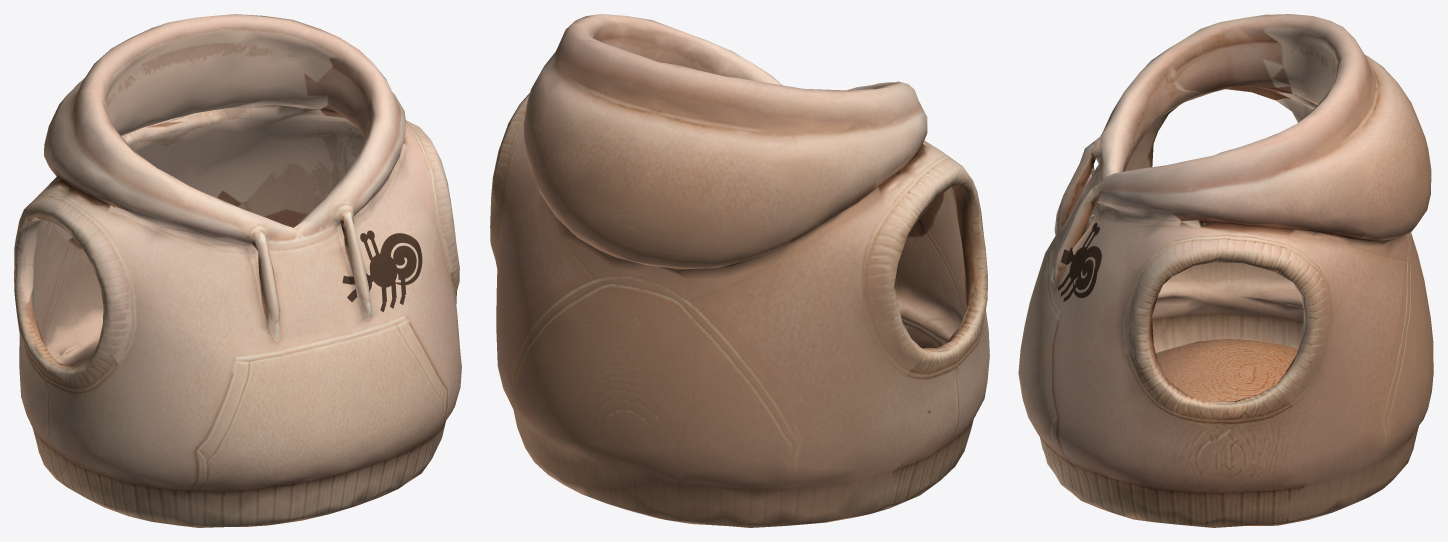
Rendered from crab_hodie.glb.
3 renders of one model, left to right at view 1: azimuth 30°, elevation 25°; view 2: azimuth 150°, elevation 25°; view 3: azimuth 270°, elevation 25°, orthographic. The views are drawn at different scales.
Visible parts, largest first — view 1: texture_mapping; view 2: texture_mapping; view 3: texture_mapping.
Boxes of the visible parts, x1,y1,x2,y2 form: texture_mapping: (14,14,461,527); texture_mapping: (490,14,989,527); texture_mapping: (1018,14,1433,527).
Size of the model in its own units: 1 by 0.9547 by 0.9111.
Materials: 2 (2 with a texture image).
